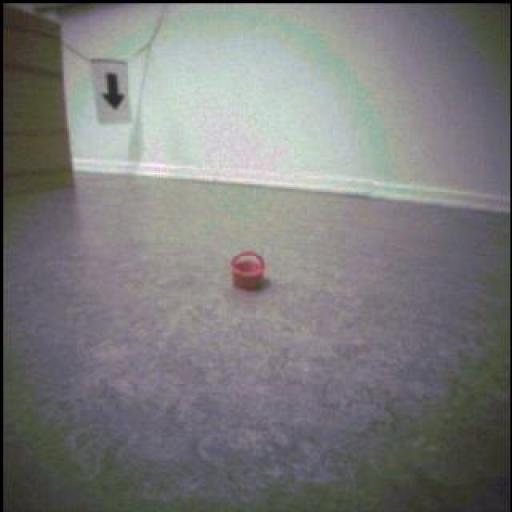Arrow: (103, 75, 126, 110)
Bucket: (230, 249, 268, 290)
